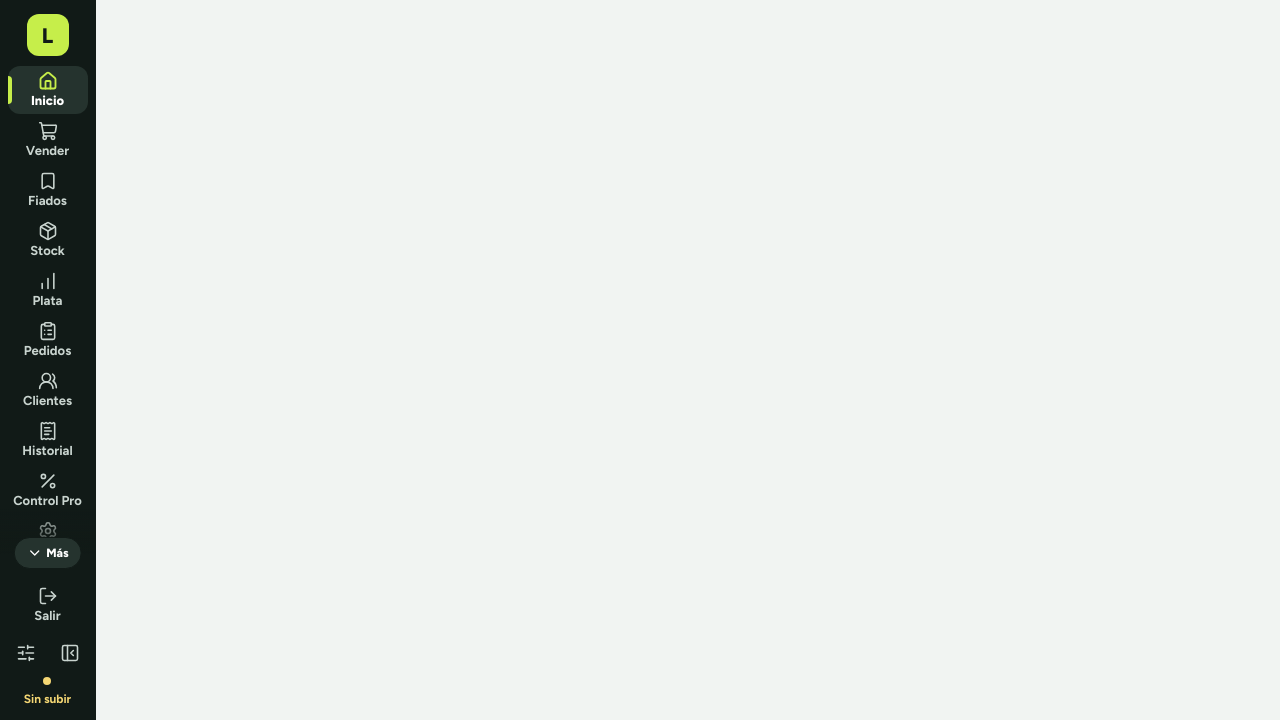
Test: Cerrar sesión desde el menú › "Seguir usando" cierra la hoja sin salir
Click the button with aria-label "Cerrar sesión" at point(48, 605), box [8,581,88,629]
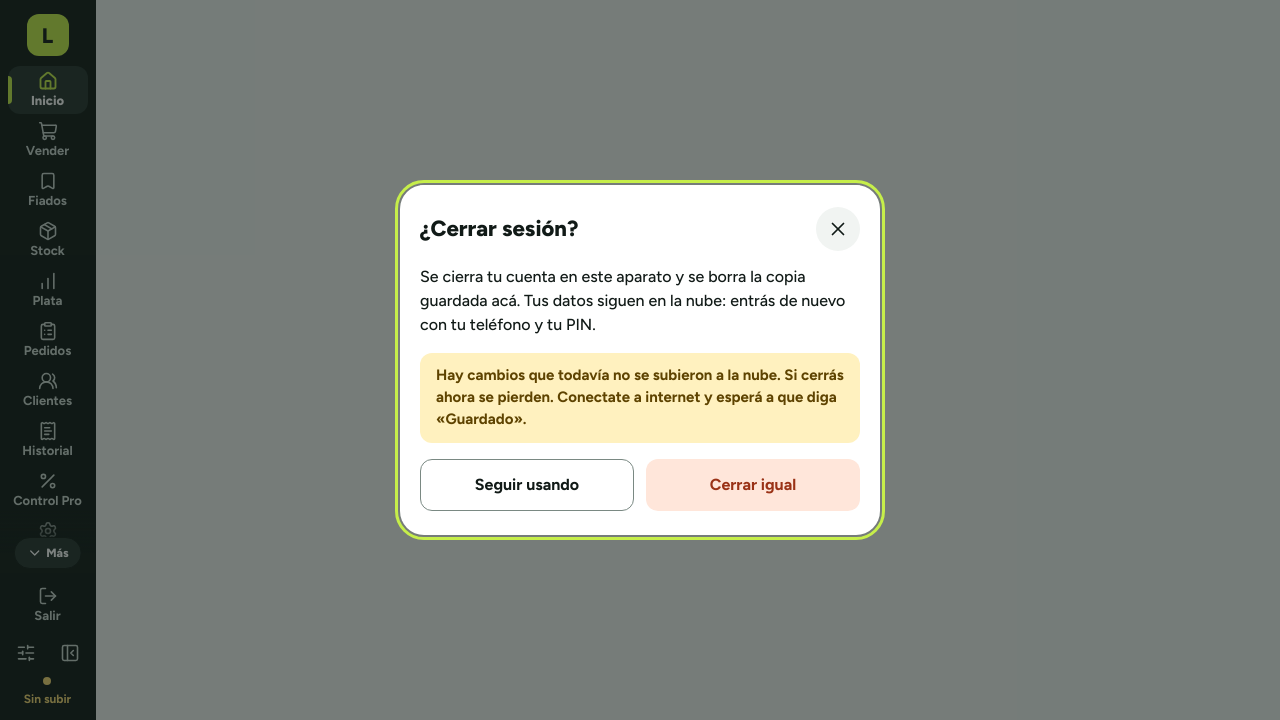
Click the button "Seguir usando" at point(527, 485), box [420,459,634,511]
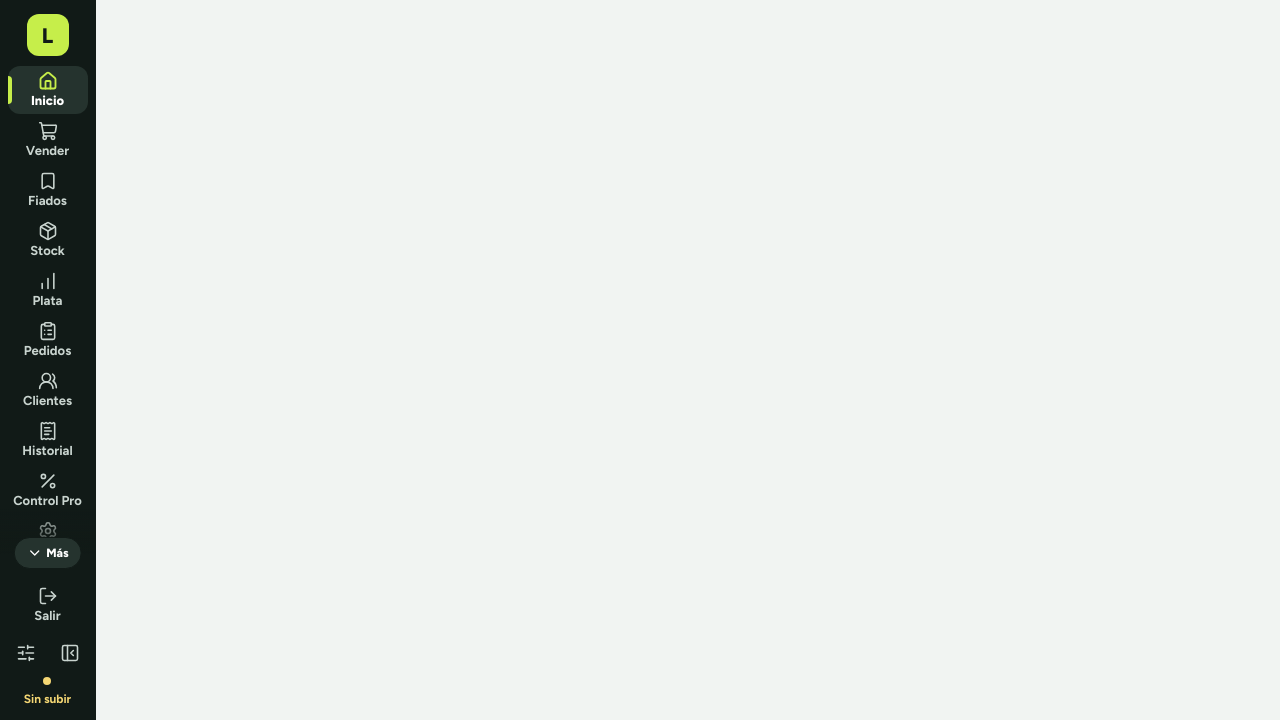
Check: the heading "¿Cerrar sesión?" is gone
